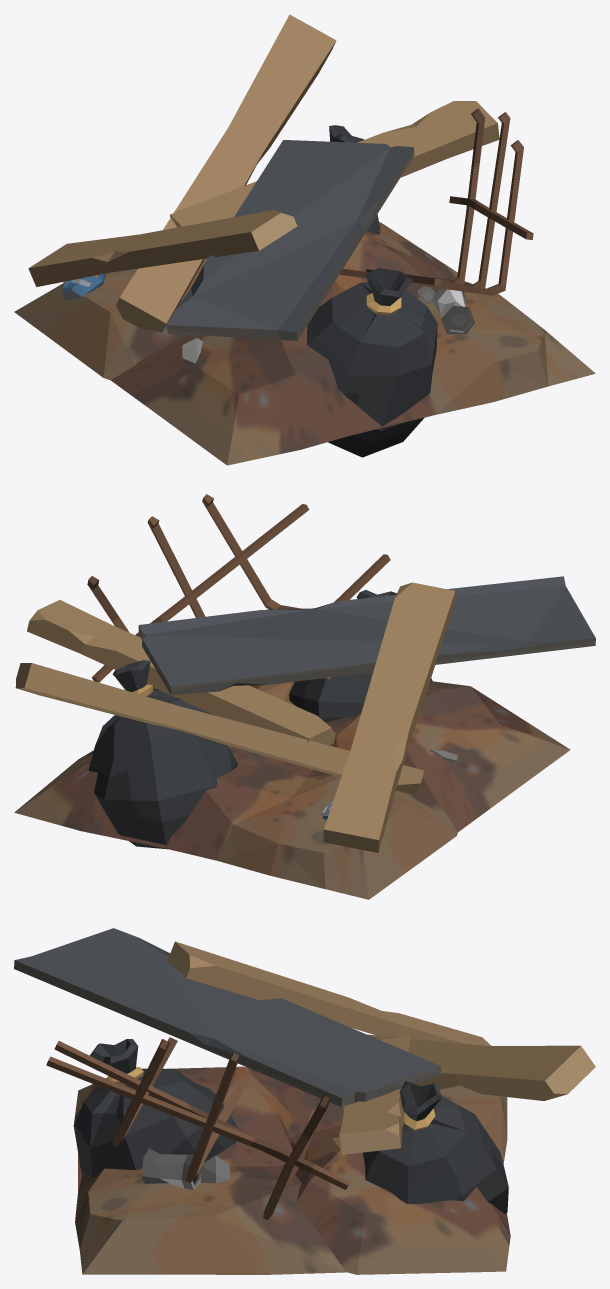
Rendered from SM_Prop_Skip_Large_02_Insert_02.fbx.
3 views of the same model, one above another, from view 1: azimuth 30°, elevation 25°; view 2: azimuth 150°, elevation 25°; view 3: azimuth 270°, elevation 25° (orthographic). The views are drawn at different scales.
Visible parts, largest first — view 1: SM_Prop_Skip_Large_02_Insert_02; view 2: SM_Prop_Skip_Large_02_Insert_02; view 3: SM_Prop_Skip_Large_02_Insert_02.
Boxes of the visible parts, left/top/right/bottom form: SM_Prop_Skip_Large_02_Insert_02: left=14, top=14, right=595, bottom=465; SM_Prop_Skip_Large_02_Insert_02: left=14, top=494, right=595, bottom=899; SM_Prop_Skip_Large_02_Insert_02: left=14, top=928, right=595, bottom=1274.
Bounding box in the file's own units: 185 × 99.79 × 205.
